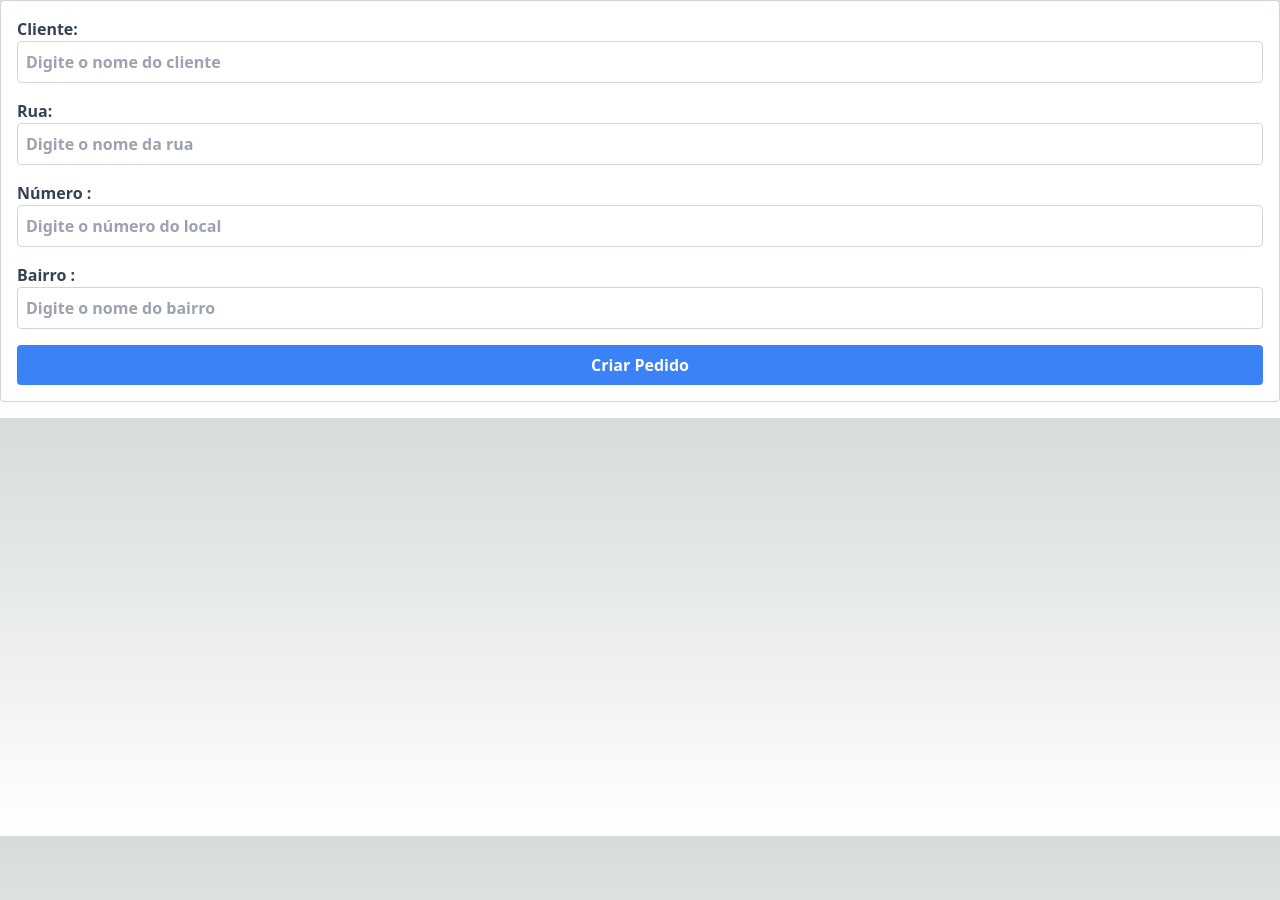
Test: OrderForm Component › displays success message after form submission
The width and height of the screenshot is (1280, 900).
Type "John Doe" into the field labelled "Cliente:" at point(640, 62), box [17,41,1263,83]
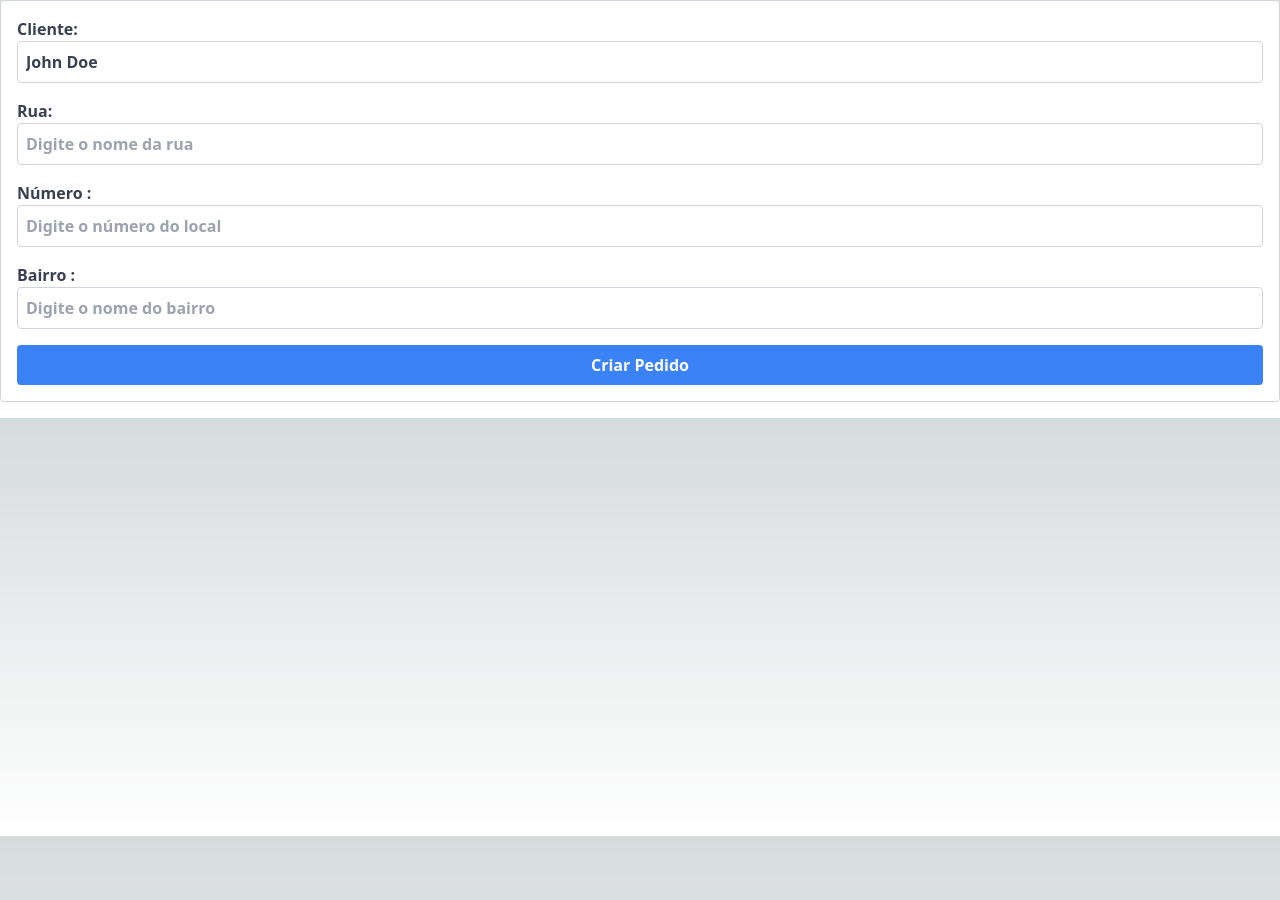
Type "Main Street" into the field labelled "Rua:" at point(640, 144), box [17,123,1263,165]
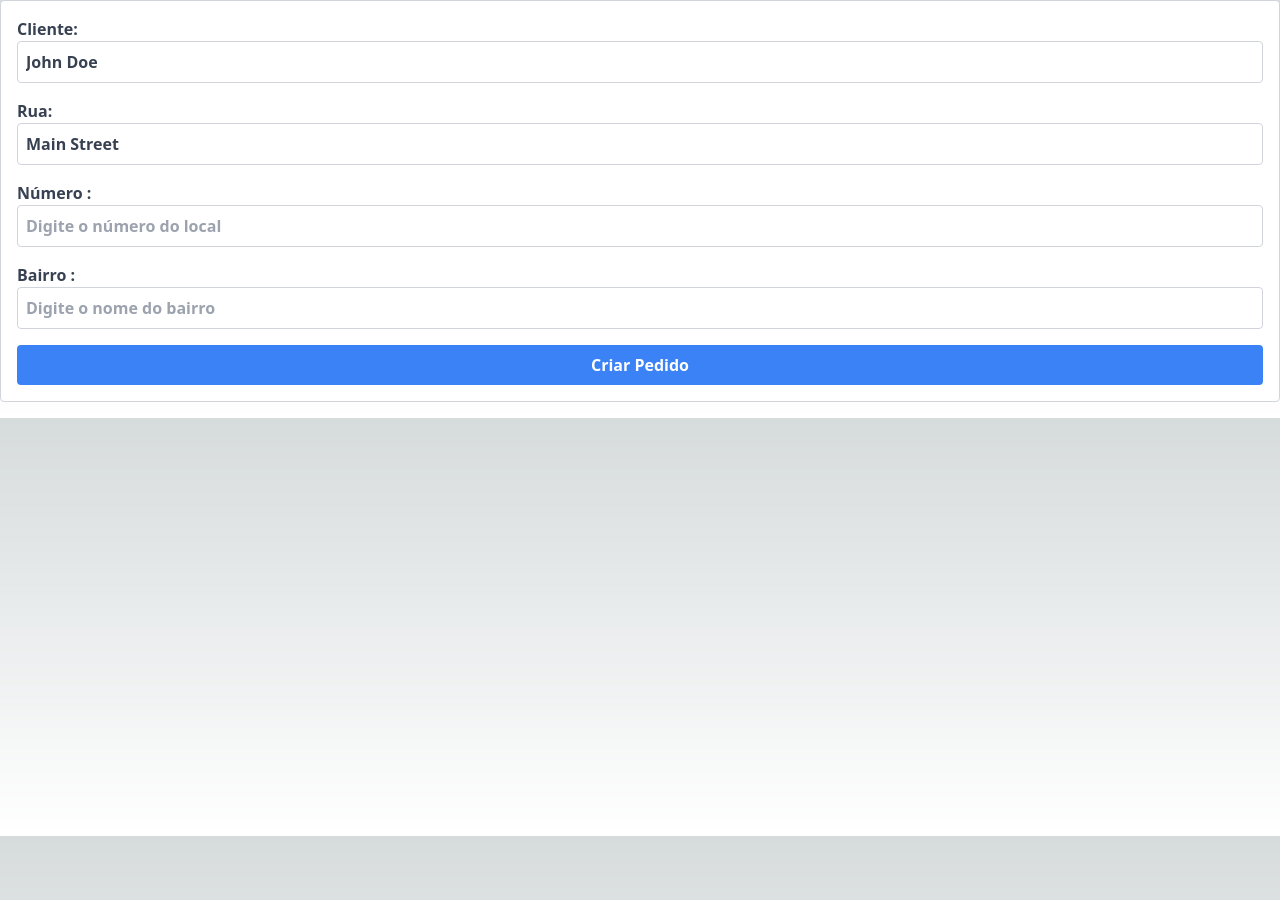
Type "123" into the field labelled "Número :" at point(640, 226), box [17,205,1263,247]
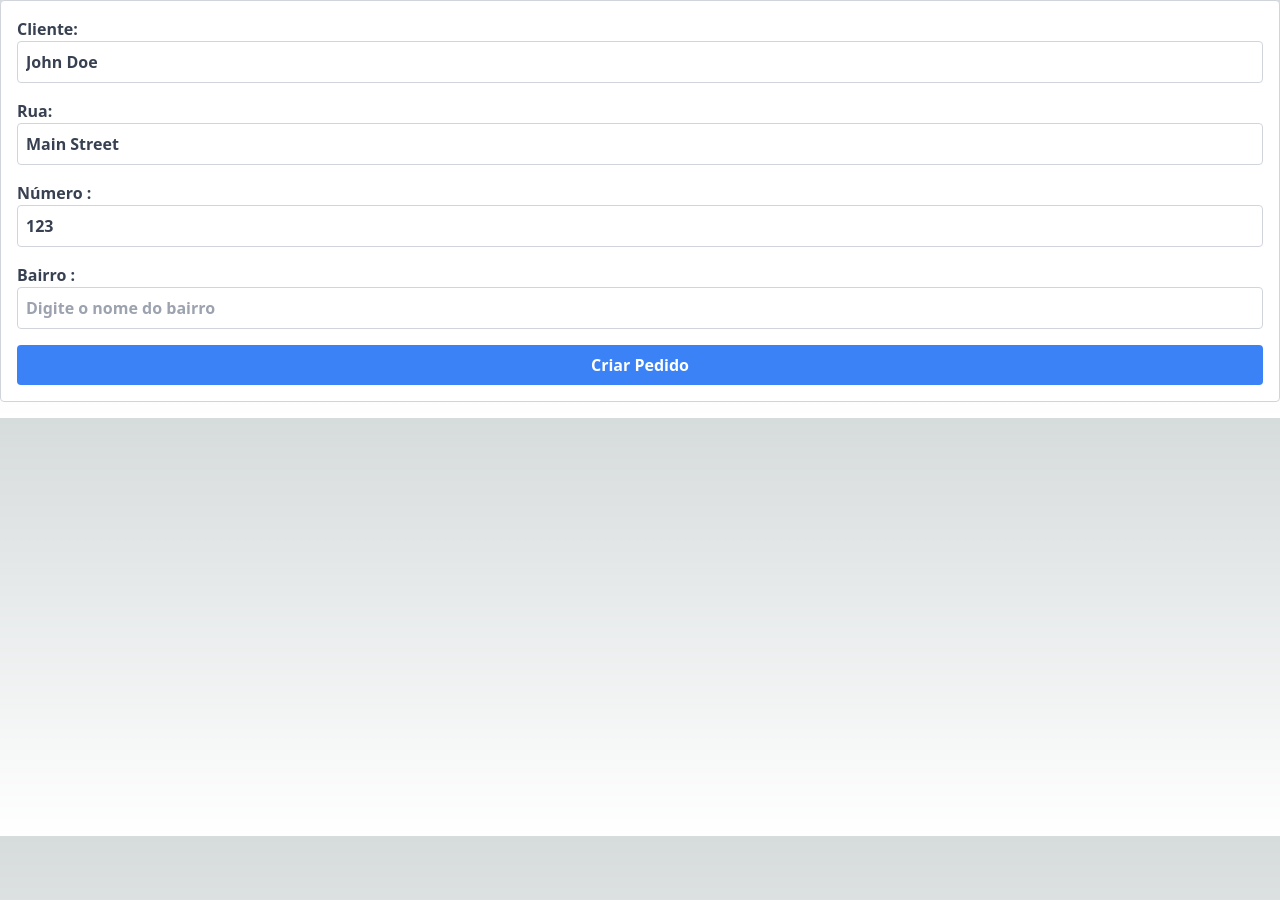
Type "Downtown" into the field labelled "Bairro :" at point(640, 308), box [17,287,1263,329]
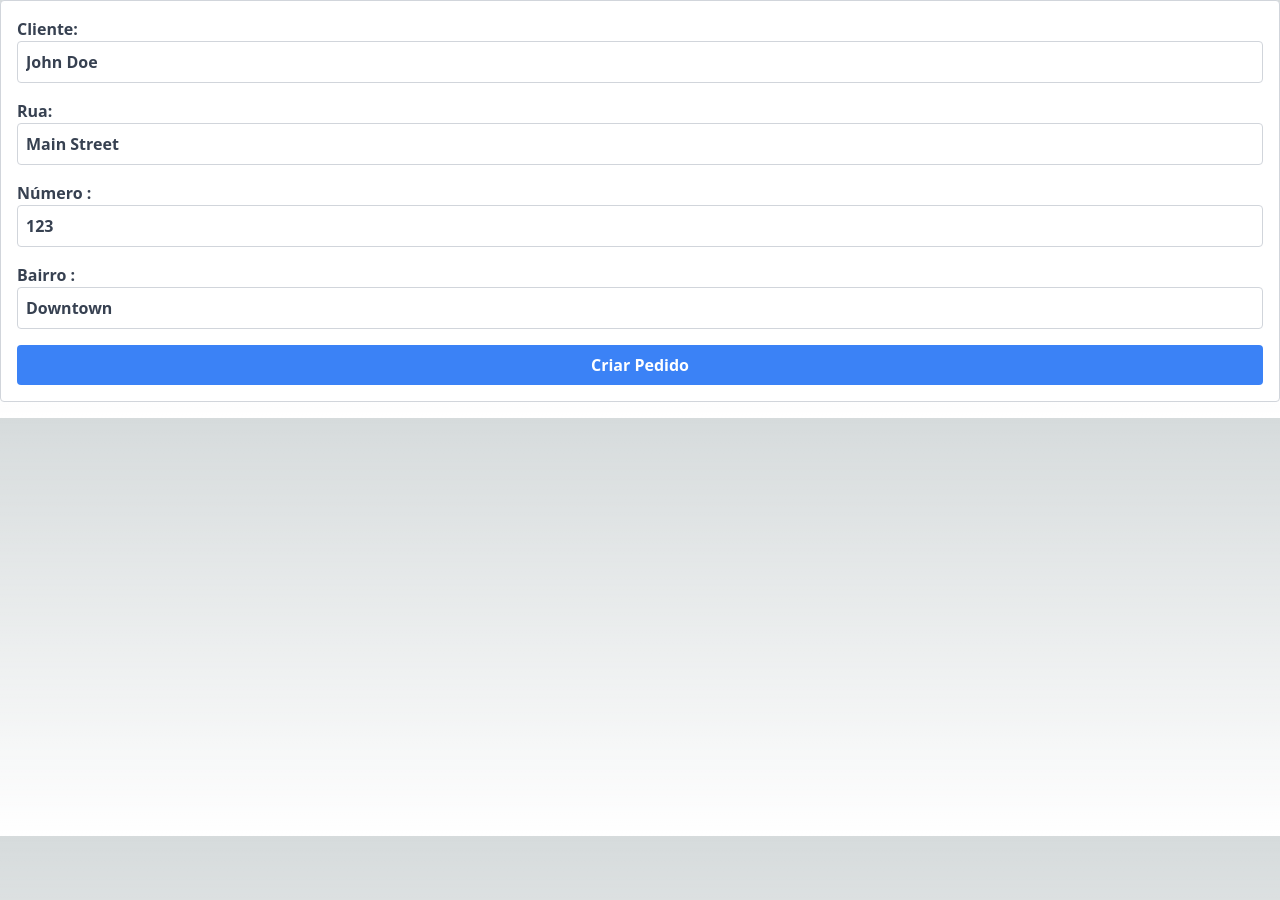
Click the button "Criar Pedido" at point(640, 365), box [17,345,1263,385]
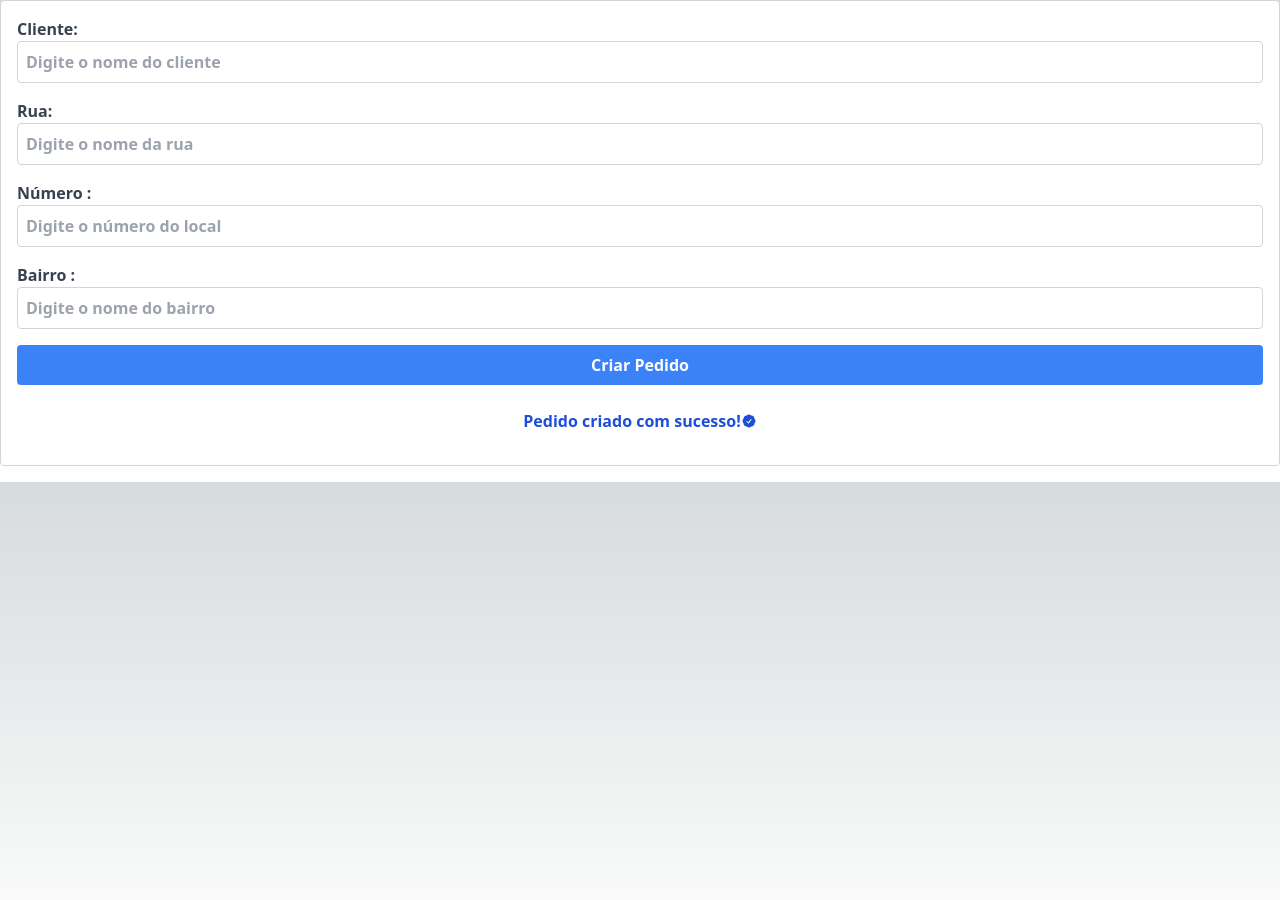
Expected: the text "Pedido criado com sucesso!" is shown, [523,409,757,433]
